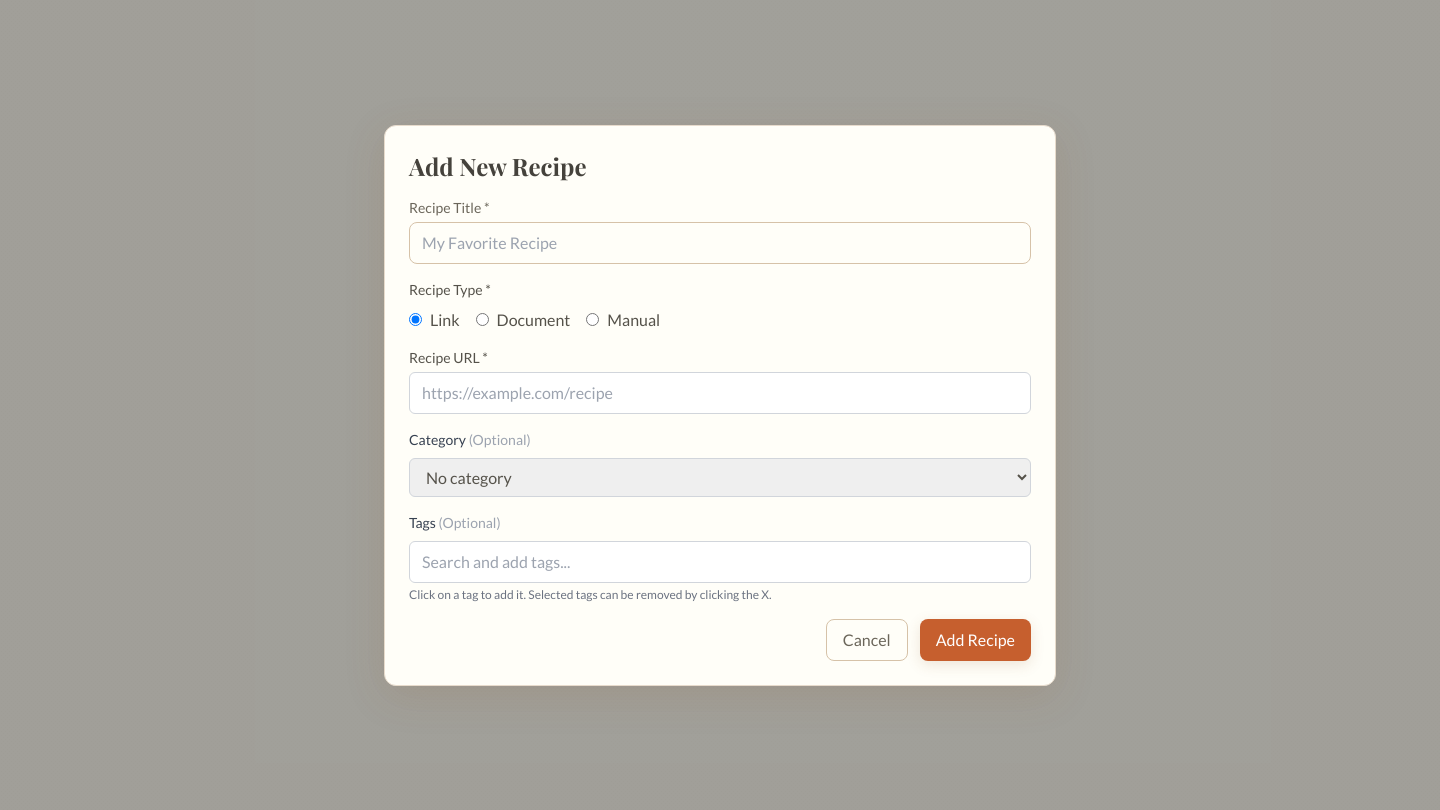
Test: RecipeForm › should show file upload field when document type is selected
Click the radio button labelled "Document": (482,320) [476, 313, 489, 326]
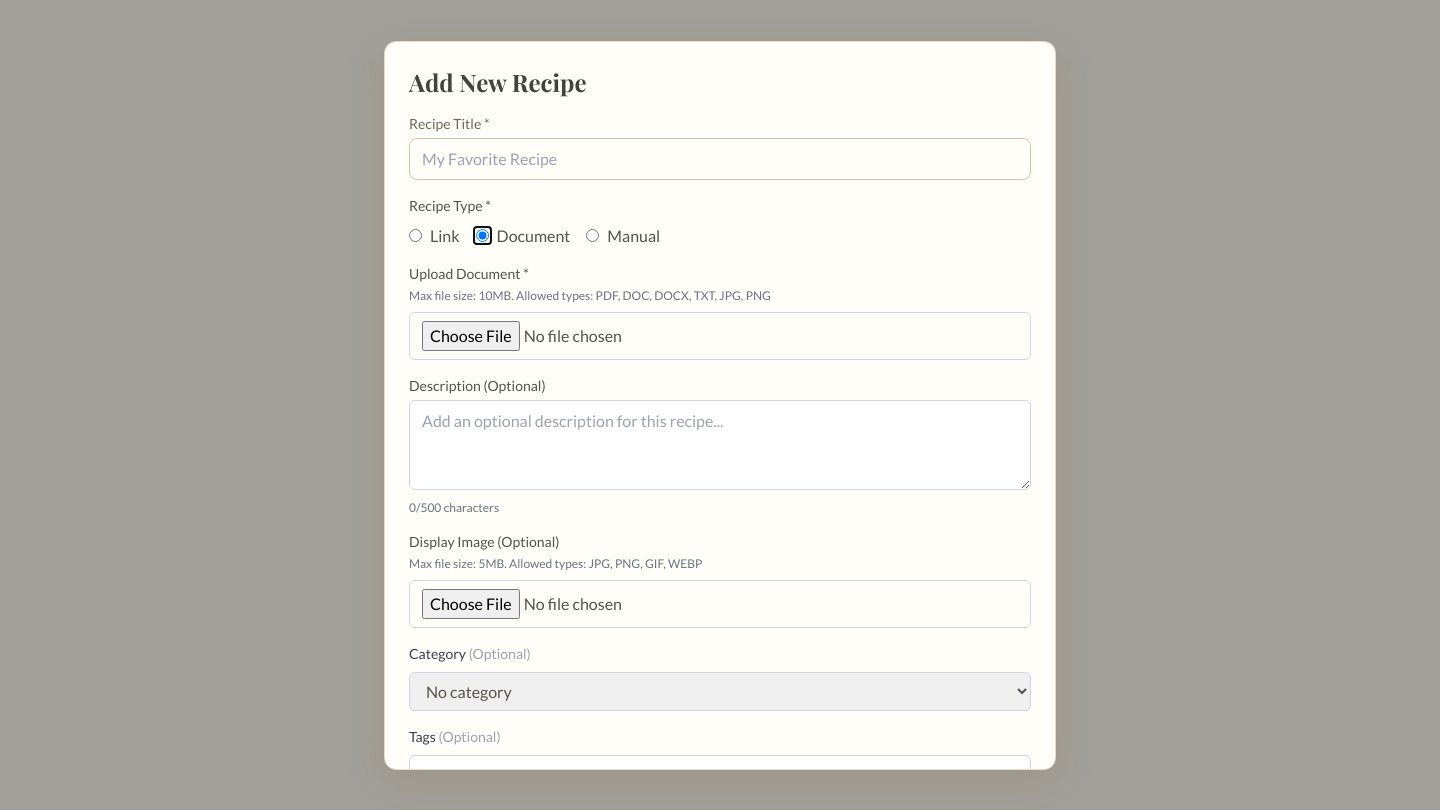
Result: the file field labelled "Upload Document *" is shown at [409, 312, 1031, 360]
